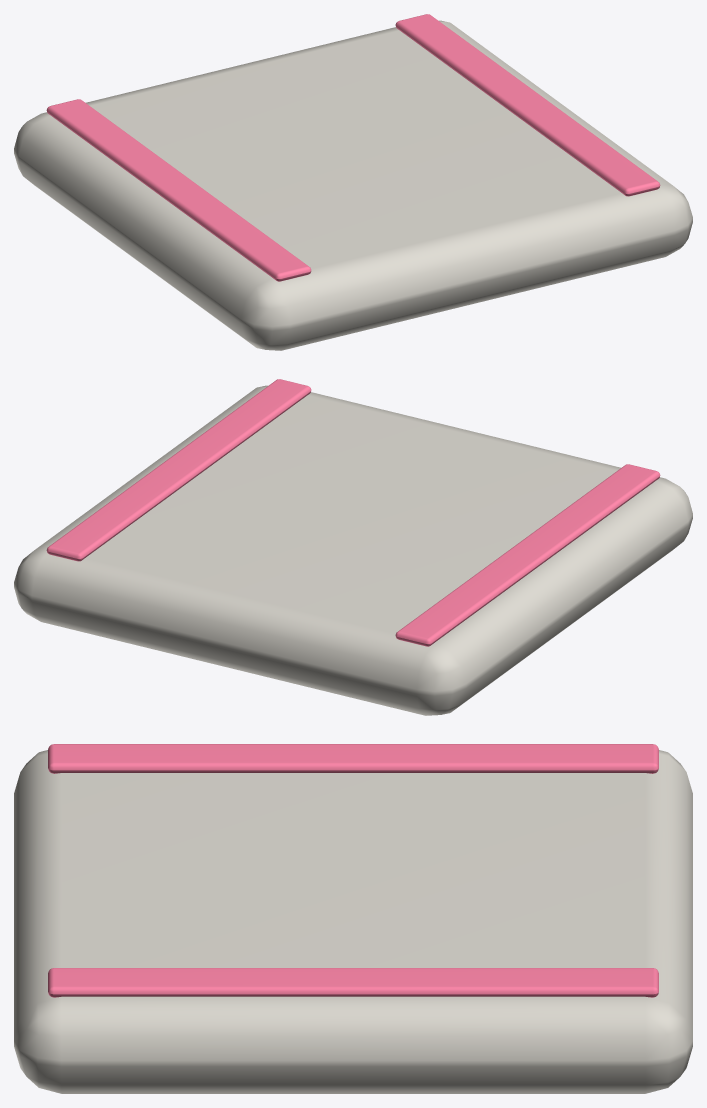
The model's file is bridge-tile.gltf.
The picture shows the model from 3 angles, top to bottom: view 1: azimuth 30°, elevation 25°; view 2: azimuth 150°, elevation 25°; view 3: azimuth 270°, elevation 25°; orthographic projection. The views are drawn at different scales.
Visible parts, largest first — view 1: Bridge marshmallow, Bridge candy stripe.001, Bridge candy stripe; view 2: Bridge marshmallow, Bridge candy stripe.001, Bridge candy stripe; view 3: Bridge marshmallow, Bridge candy stripe, Bridge candy stripe.001.
Boxes of the visible parts, bbox=[...] form: Bridge marshmallow: bbox=[14, 20, 692, 350]; Bridge candy stripe.001: bbox=[395, 14, 660, 196]; Bridge candy stripe: bbox=[46, 99, 311, 281]; Bridge marshmallow: bbox=[14, 385, 692, 715]; Bridge candy stripe.001: bbox=[46, 379, 311, 561]; Bridge candy stripe: bbox=[395, 464, 660, 646]; Bridge marshmallow: bbox=[14, 750, 692, 1093]; Bridge candy stripe: bbox=[48, 744, 658, 773]; Bridge candy stripe.001: bbox=[48, 968, 658, 997].
Size of the model in its own units: 2 by 0.3275 by 2.
